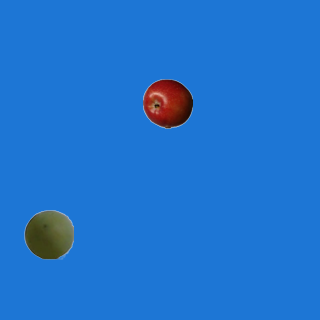Apple Braeburn: (142, 78, 192, 128)
Grape White 4: (23, 209, 73, 259)
